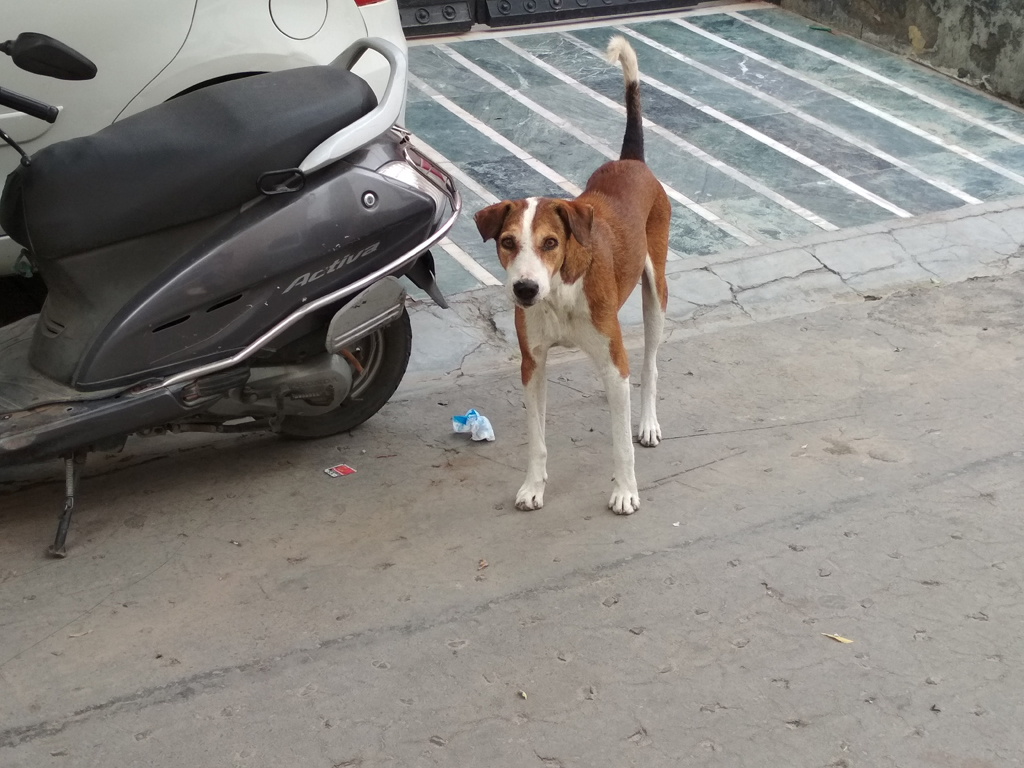dog: (475, 36, 675, 515)
